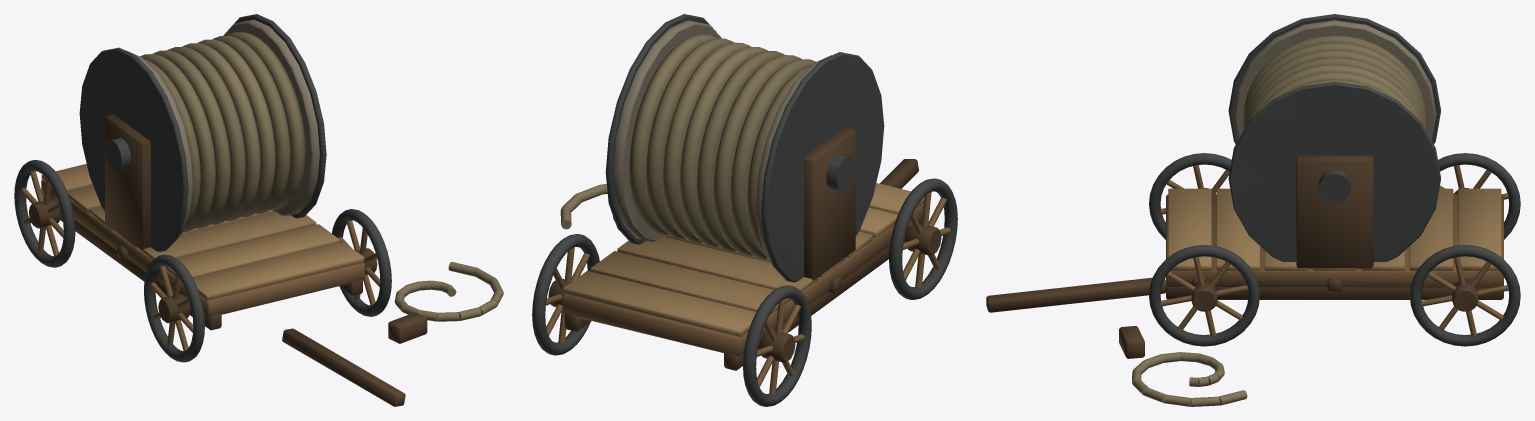
The model's file is rope_drum_wagon_a.glb.
The picture shows the model from 3 angles, left to right: view 1: azimuth 30°, elevation 25°; view 2: azimuth 150°, elevation 25°; view 3: azimuth 270°, elevation 25°; orthographic projection. The views are drawn at different scales.
Parts seen in each view (by area): view 1: Surface; view 2: Surface; view 3: Surface.
Part boxes in pixels (bbox=[...]): Surface: bbox=[14, 14, 503, 406]; Surface: bbox=[532, 14, 957, 406]; Surface: bbox=[986, 14, 1520, 406].
Size of the model in its own units: 7.87 by 5.75 by 11.07.
